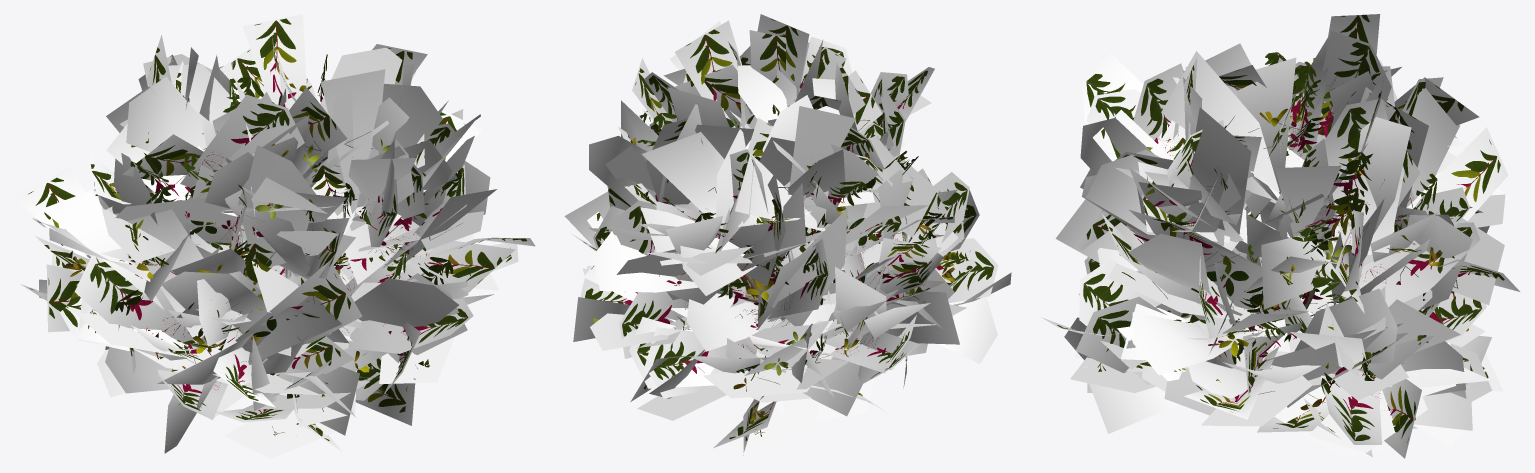
The model's file is photontia4.glb.
3 renders of one model, left to right at view 1: azimuth 30°, elevation 25°; view 2: azimuth 150°, elevation 25°; view 3: azimuth 270°, elevation 25°, orthographic. The views are drawn at different scales.
Parts seen in each view (by area): view 1: photontia4; view 2: photontia4; view 3: photontia4.
Boxes of the visible parts, left/top/right/bottom form: photontia4: left=14, top=14, right=535, bottom=458; photontia4: left=564, top=14, right=1011, bottom=458; photontia4: left=1041, top=14, right=1519, bottom=458.
Size of the model in its own units: 1.86 by 1.43 by 1.65.
Materials: 4 (3 with a texture image).
